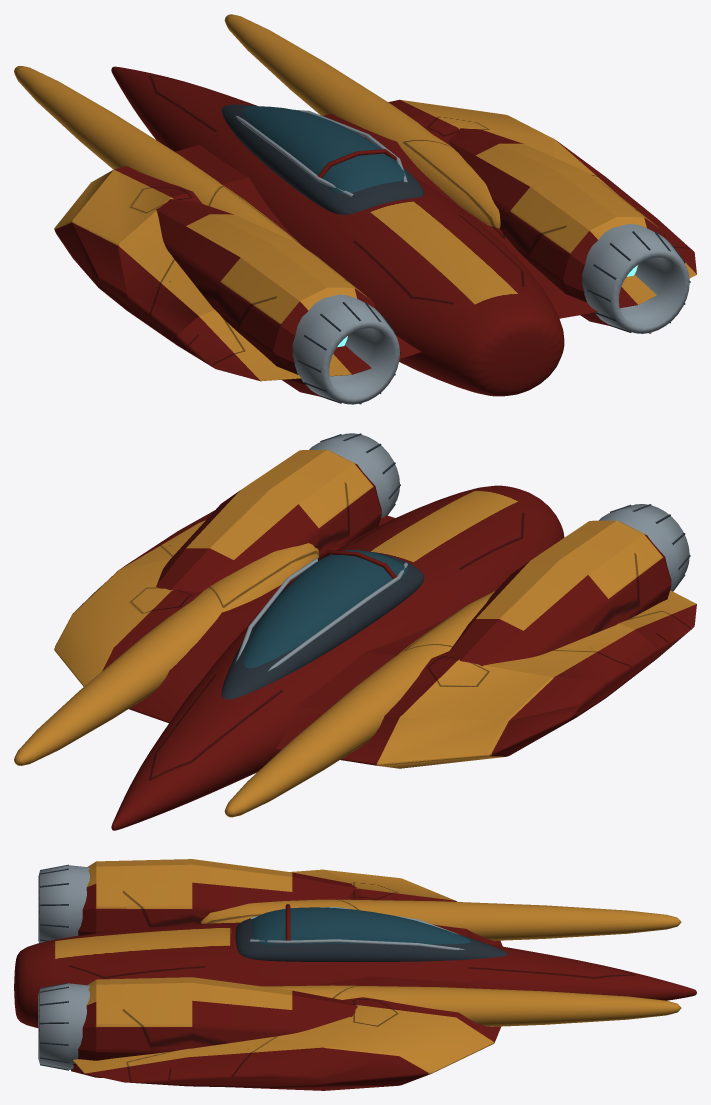
3 renders of one model, top to bottom at view 1: azimuth 30°, elevation 25°; view 2: azimuth 150°, elevation 25°; view 3: azimuth 270°, elevation 25°, orthographic. The views are drawn at different scales.
Visible parts, largest first — view 1: EiriktheVikingV2; view 2: EiriktheVikingV2; view 3: EiriktheVikingV2.
Boxes of the visible parts, x1,y1,x2,y2 form: EiriktheVikingV2: [14, 14, 696, 404]; EiriktheVikingV2: [14, 433, 696, 830]; EiriktheVikingV2: [14, 859, 696, 1090].
Bounding box in the file's own units: 2.56 × 0.7206 × 3.76.
6 materials, 2 textured.
